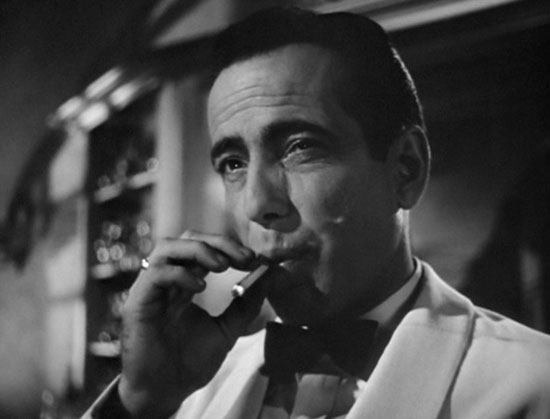cigarette: (215, 249, 287, 308)
